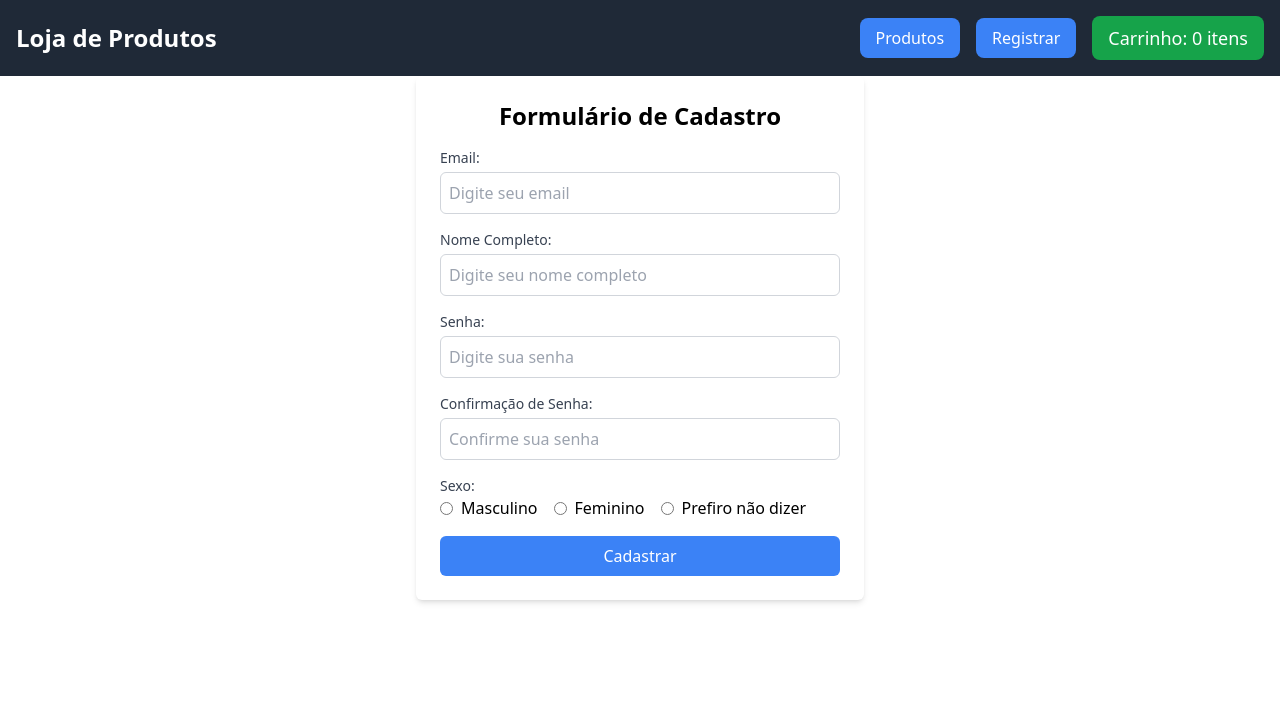
Test: Cadastro Formulário › Deve preencher o formulário corretamente
# Preenche os campos do formulário
Type "teste@dominio.com" into the field named "email" at point(640, 193), box [440,172,840,214]
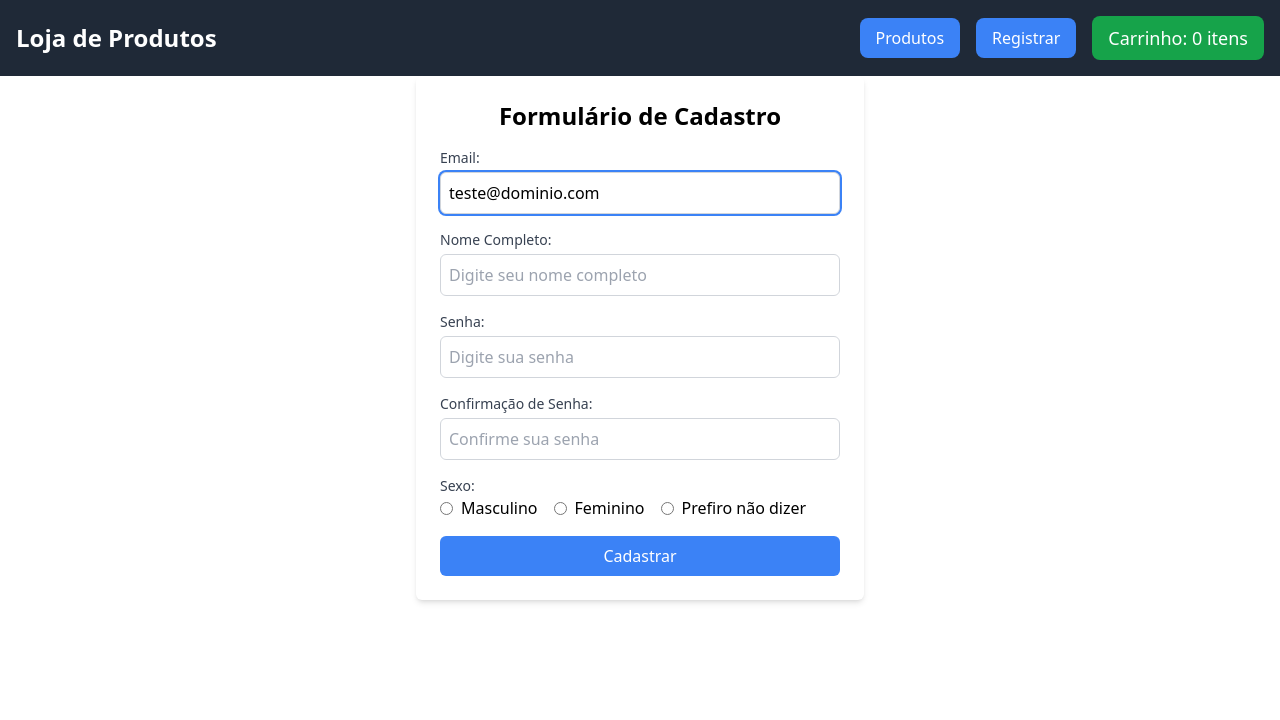
Type "João da Silva" into the field named "nome" at point(640, 275), box [440,254,840,296]
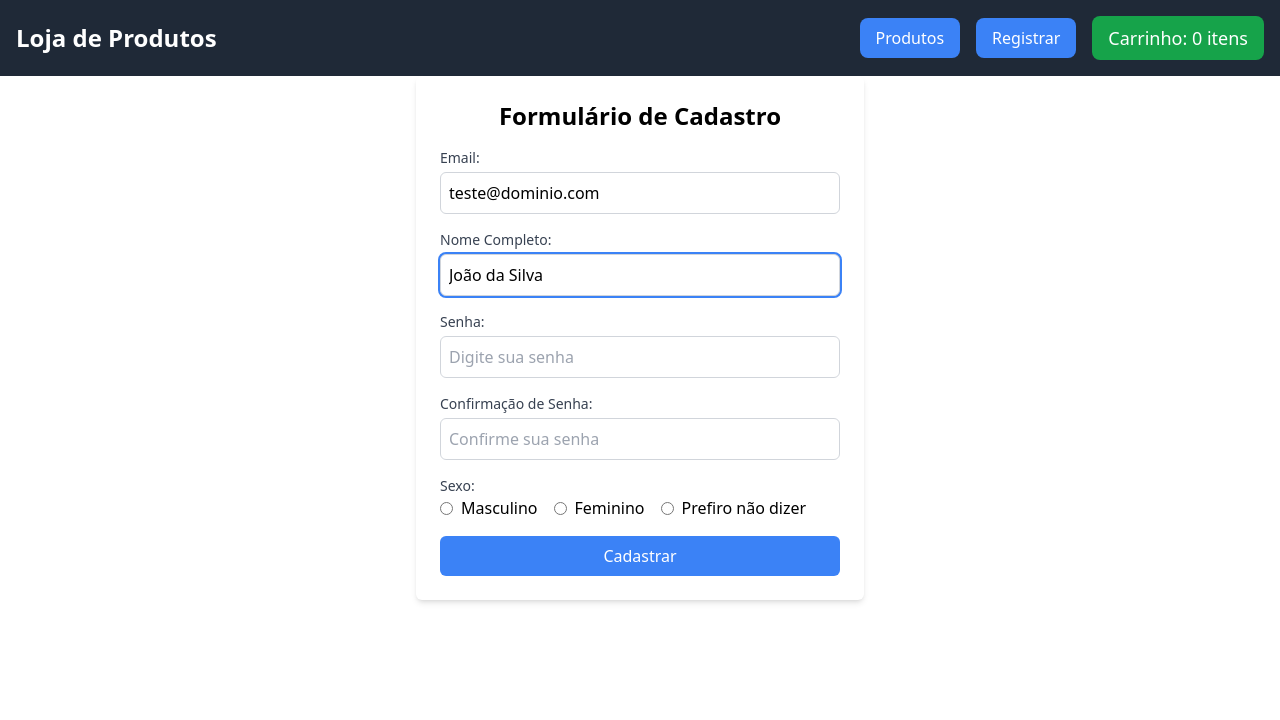
Type "123456" into the password field named "senha" at point(640, 357), box [440,336,840,378]
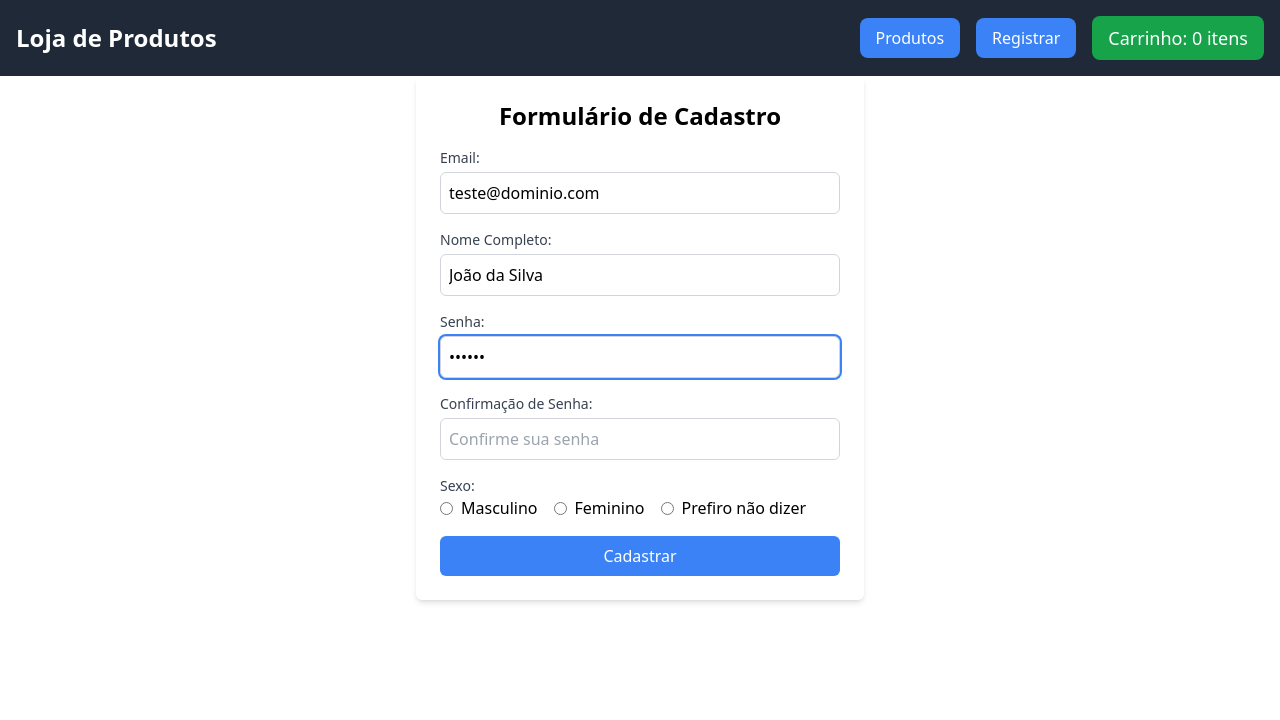
Type "123456" into the password field named "confirmacaoSenha" at point(640, 439), box [440,418,840,460]
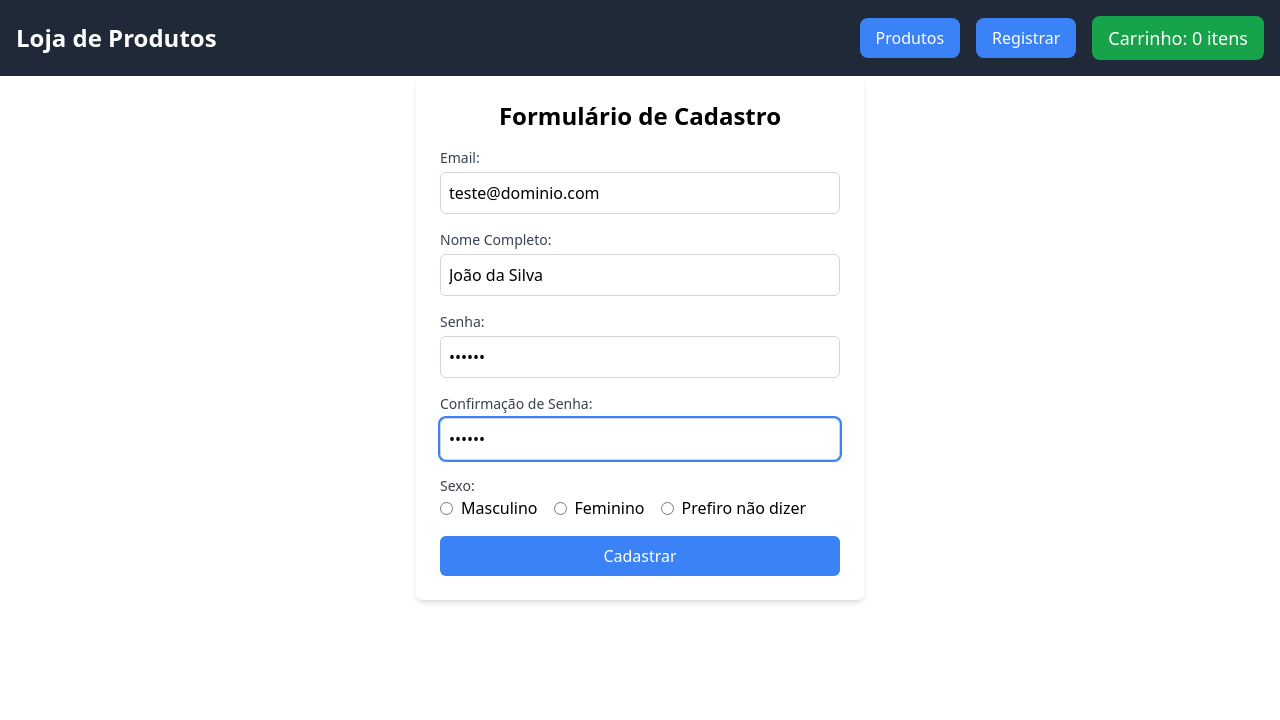
Check the radio button named "sexo" at point(447, 509), box [440,502,453,515]
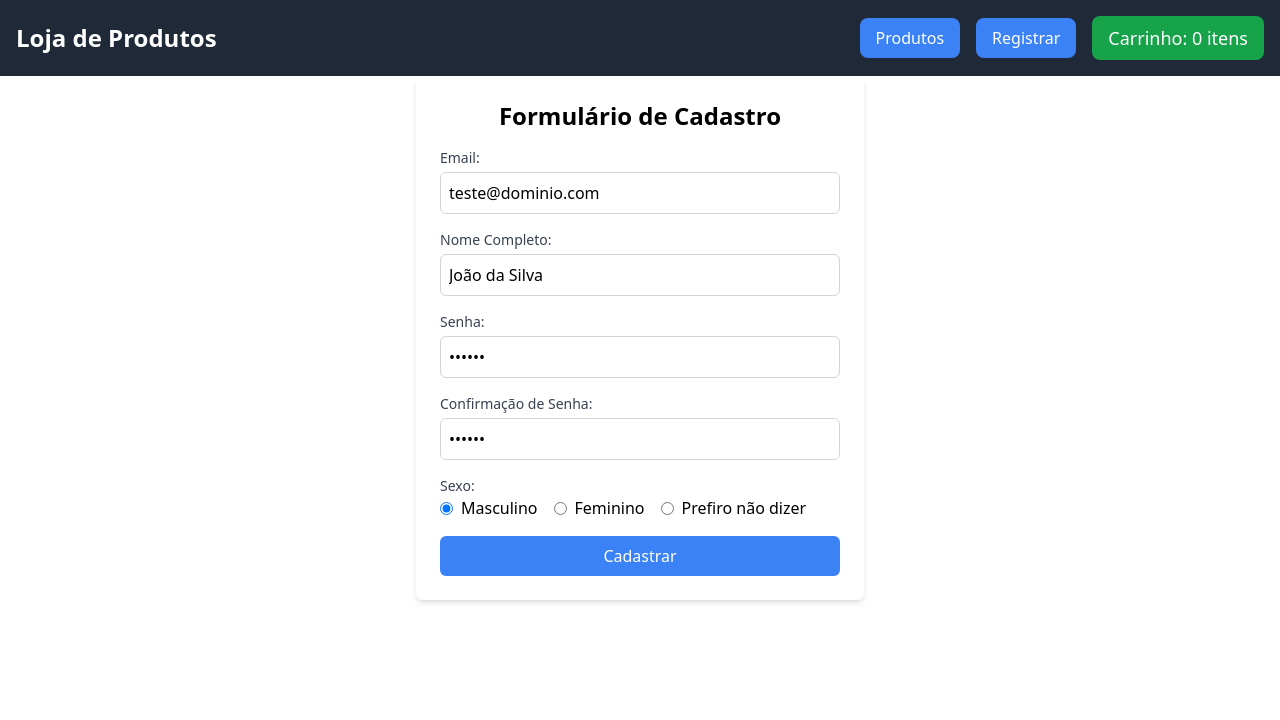
# Envia o formulário
Click the submit button at point(640, 556), box [440,536,840,576]
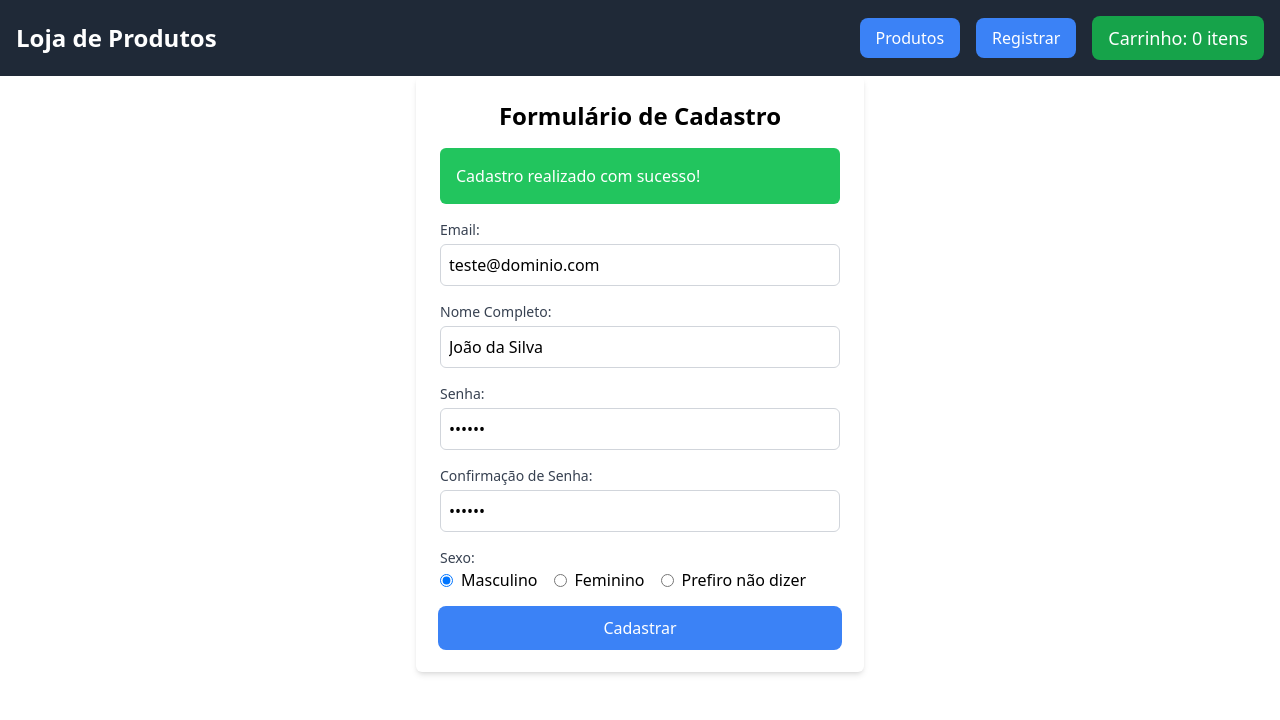
Result: the text "Cadastro realizado com sucesso!" is shown at [440,148,840,204]
